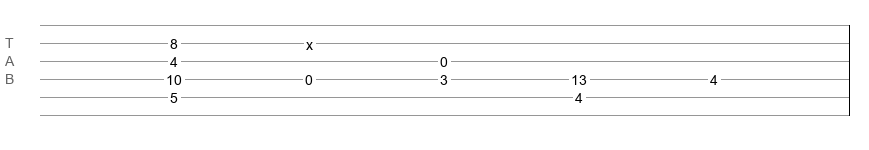0: (305, 72, 313, 82), (440, 54, 448, 64)
10: (166, 72, 182, 82)
13: (571, 72, 587, 82)
3: (440, 72, 448, 82)
4: (170, 54, 178, 64), (575, 90, 583, 100), (710, 72, 718, 82)
5: (170, 90, 178, 100)
8: (170, 36, 178, 46)
x: (306, 37, 313, 45)
